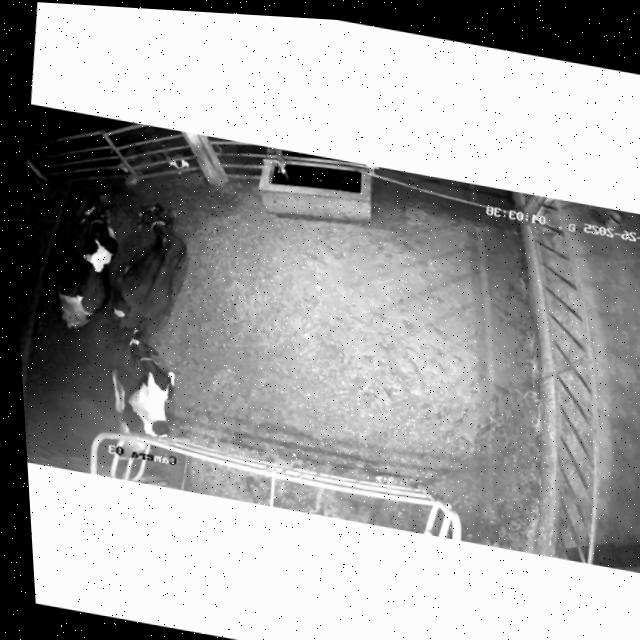lay: (99, 193, 206, 345), (35, 181, 127, 346), (97, 321, 205, 452)
